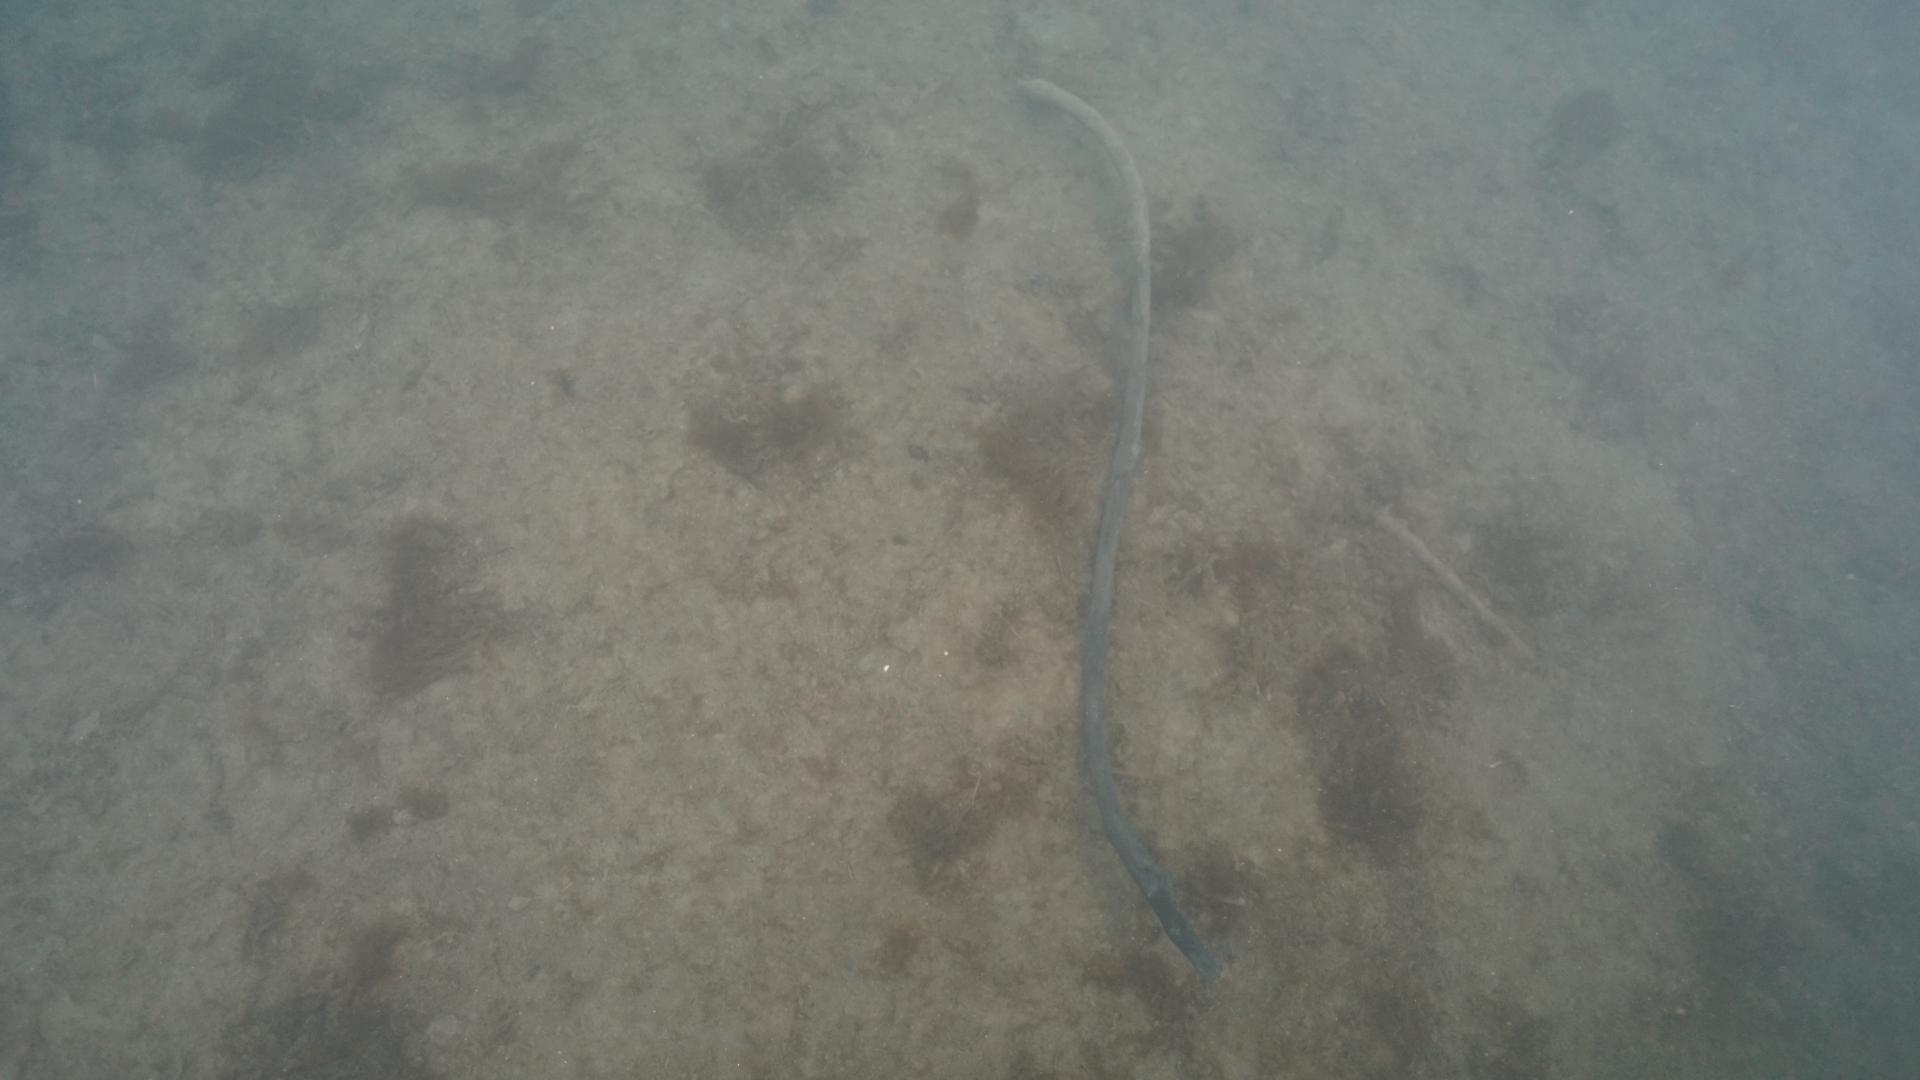wood: (1007, 75, 1222, 980)
